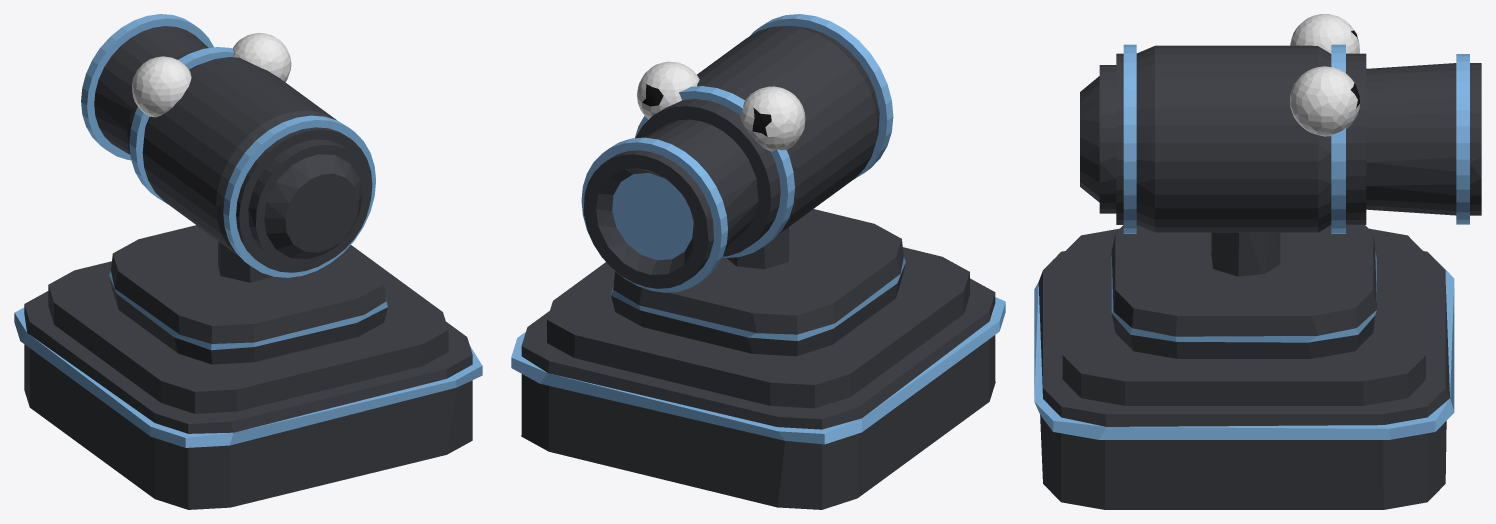
File: CannonLvl2.glb
3 renders of one model, left to right at view 1: azimuth 30°, elevation 25°; view 2: azimuth 150°, elevation 25°; view 3: azimuth 270°, elevation 25°, orthographic. The views are drawn at different scales.
Visible parts, largest first — view 1: Cube, Cube.003; view 2: Cube, Cube.003; view 3: Cube, Cube.003.
Boxes of the visible parts, box(x1,y1,x2,y2) form: Cube: box(14, 225, 482, 509); Cube.003: box(81, 14, 375, 277); Cube: box(511, 209, 1005, 509); Cube.003: box(581, 14, 893, 292); Cube: box(1034, 225, 1454, 509); Cube.003: box(1080, 14, 1481, 233).
Bounding box in the file's own units: 11.92 × 11.92 × 12.69.
